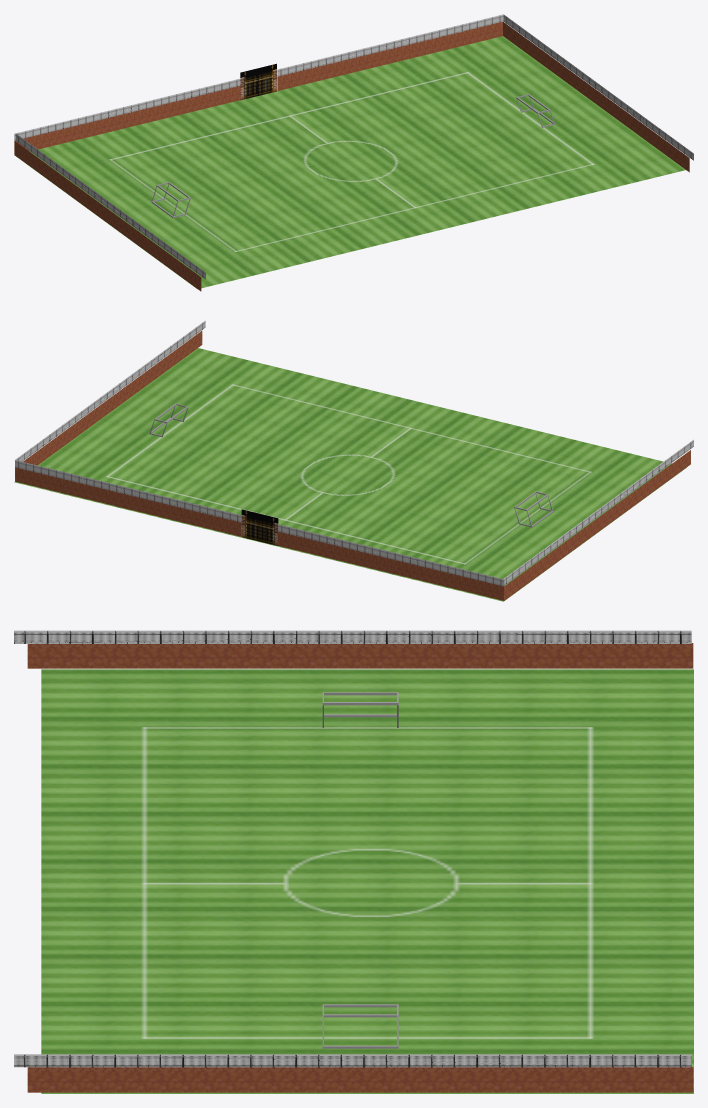
The model's file is playgrond.fbx.
3 views of the same model, one above another, from view 1: azimuth 30°, elevation 25°; view 2: azimuth 150°, elevation 25°; view 3: azimuth 270°, elevation 25° (orthographic). The views are drawn at different scales.
Visible parts, largest first — view 1: ground, pPlane4, pPlane3, pPlane6, pPlane5, pPlane7, pPlane9, pPlane10, pPlane8, pPlane11; view 2: ground, pPlane4, pPlane3, pPlane6, pPlane5, pPlane7, pPlane9, pPlane10, pPlane8, pPlane11; view 3: ground, pPlane5, pPlane6, pPlane8, pPlane10, goal, goal1.
Boxes of the visible parts, x1,y1,x2,y2 form: ground: [15, 36, 685, 288]; pPlane4: [277, 22, 502, 90]; pPlane3: [14, 85, 240, 154]; pPlane6: [14, 141, 201, 291]; pPlane5: [503, 22, 689, 172]; pPlane7: [277, 14, 503, 76]; pPlane9: [14, 78, 240, 140]; pPlane10: [15, 133, 205, 279]; pPlane8: [503, 14, 693, 160]; pPlane11: [240, 63, 276, 100]; ground: [14, 348, 686, 601]; pPlane4: [15, 467, 241, 536]; pPlane3: [278, 531, 503, 600]; pPlane6: [504, 450, 690, 600]; pPlane5: [15, 331, 202, 481]; pPlane7: [15, 460, 241, 522]; pPlane9: [278, 524, 504, 586]; pPlane10: [503, 439, 693, 585]; pPlane8: [15, 320, 205, 461]; pPlane11: [241, 509, 278, 545]; ground: [41, 669, 693, 1093]; pPlane5: [27, 1067, 693, 1092]; pPlane6: [27, 643, 693, 668]; pPlane8: [14, 1054, 691, 1067]; pPlane10: [14, 630, 691, 643]; goal: [322, 1004, 398, 1048]; goal1: [322, 692, 398, 727].
Bounding box in the file's own units: 82.77 × 4.57 × 55.99.
